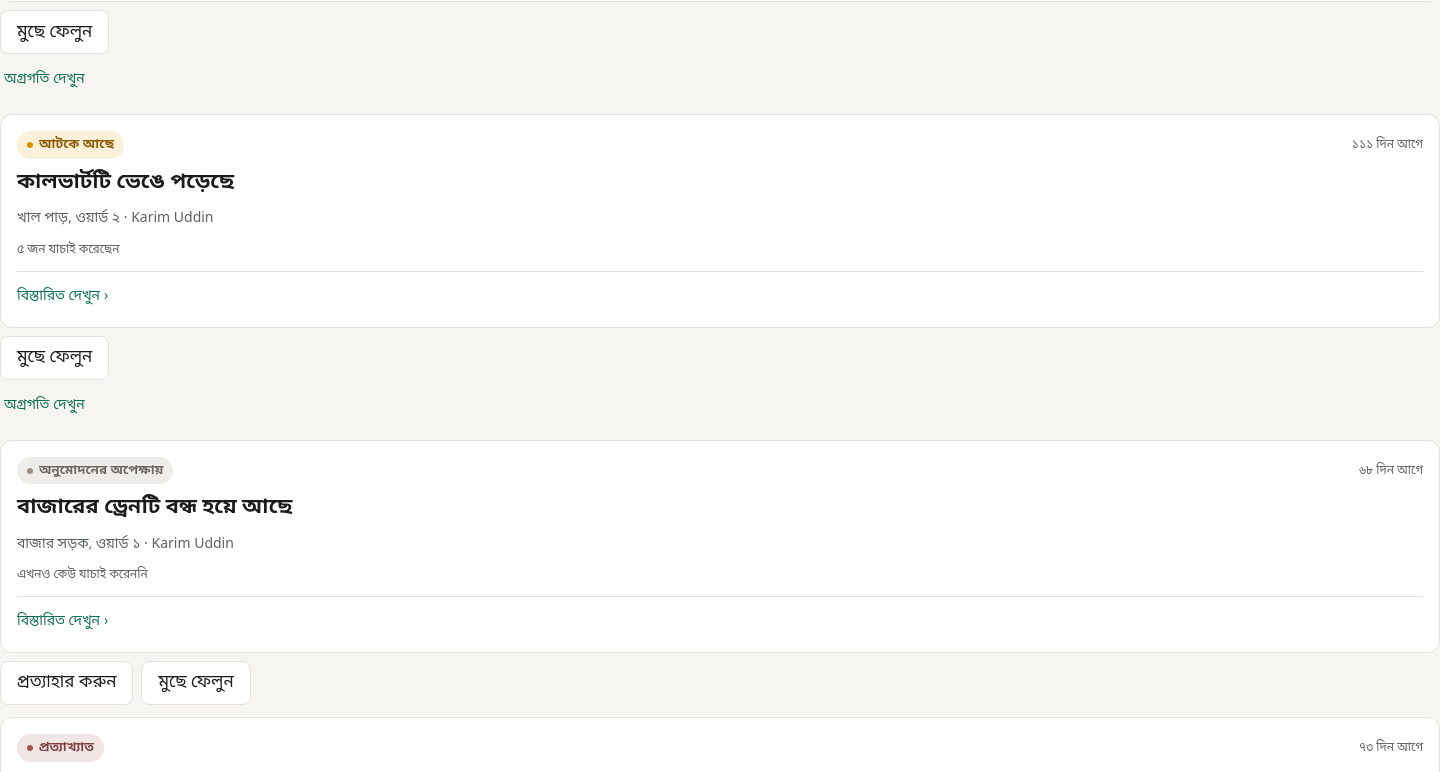
Test: MyReports › withholds the fairness note while a obstacle is only declared, not adjudicated
The width and height of the screenshot is (1440, 772).
(page scrolled)
Expected: the heading "কালভার্টটি ভেঙে পড়েছে" is shown, [17,169,234,197]
Click the button "অগ্রগতি দেখুন" below "খাল পাড়, ওয়ার্ড ২" at (44, 406), box [0,384,89,428]
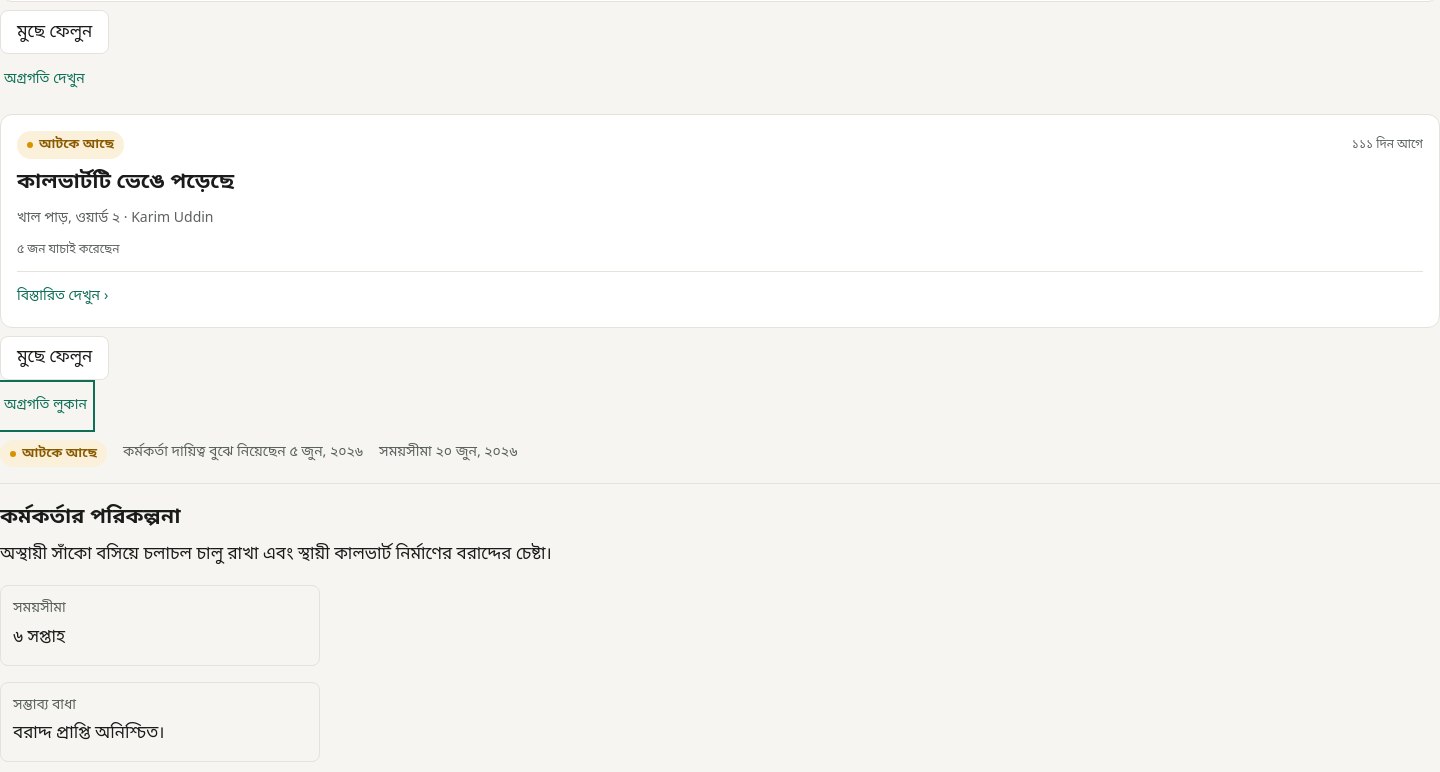
Result: the heading "কর্মকর্তার পরিকল্পনা" is shown at [0,504,181,532]
